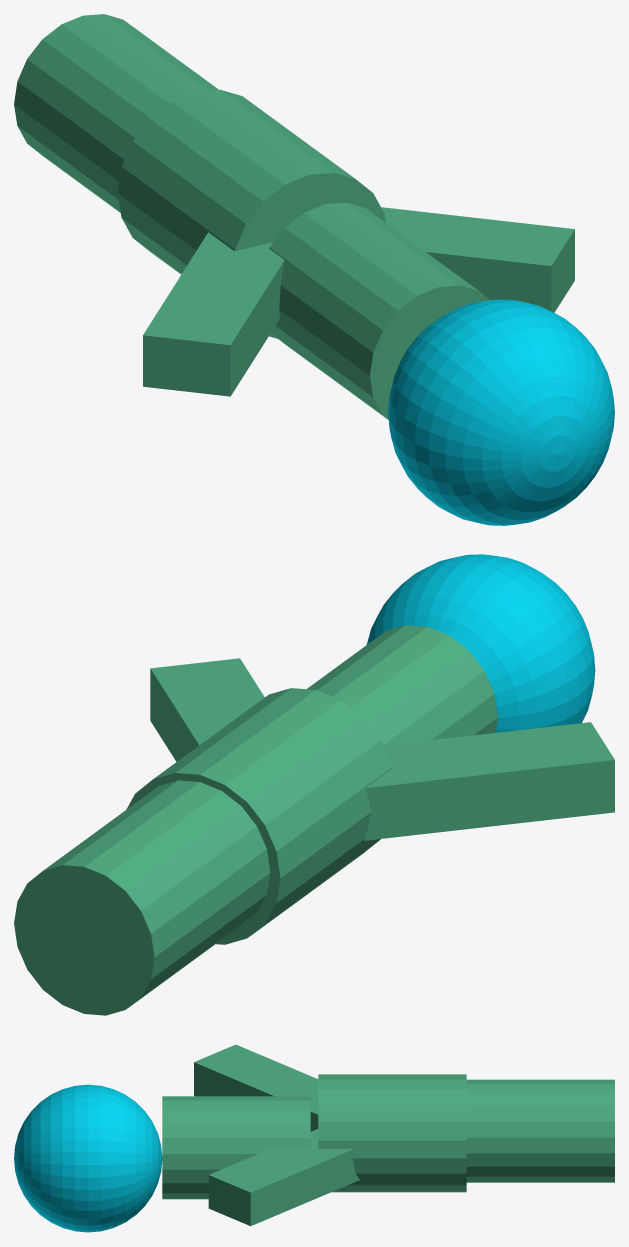
The model's file is tinker.glb.
3 renders of one model, top to bottom at view 1: azimuth 30°, elevation 25°; view 2: azimuth 150°, elevation 25°; view 3: azimuth 270°, elevation 25°, orthographic. The views are drawn at different scales.
Parts seen in each view (by area): view 1: group_0_1206582, group_0_40919; view 2: group_0_1206582, group_0_40919; view 3: group_0_1206582, group_0_40919.
Part boxes in pixels (x1=…): group_0_1206582: x1=14, y1=14, x2=574, y2=419; group_0_40919: x1=388, y1=299, x2=614, y2=525; group_0_1206582: x1=14, y1=625, x2=614, y2=1015; group_0_40919: x1=366, y1=554, x2=595, y2=732; group_0_1206582: x1=162, y1=1044, x2=614, y2=1226; group_0_40919: x1=14, y1=1084, x2=162, y2=1232.
Size of the model in its own units: 45.12 by 21 by 81.
